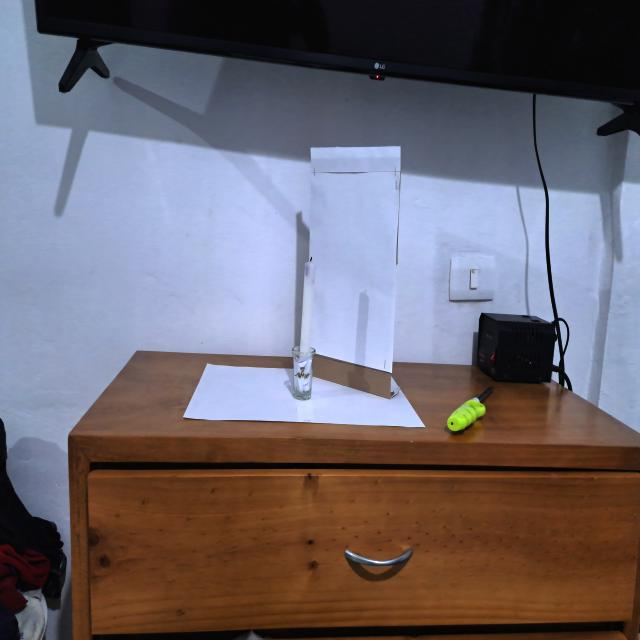candle: (291, 246, 319, 404)
wall: (307, 141, 401, 401)
